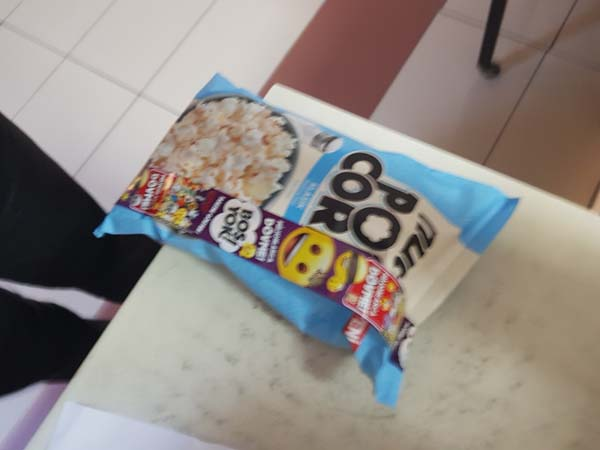popcorn: (100, 71, 524, 413)
